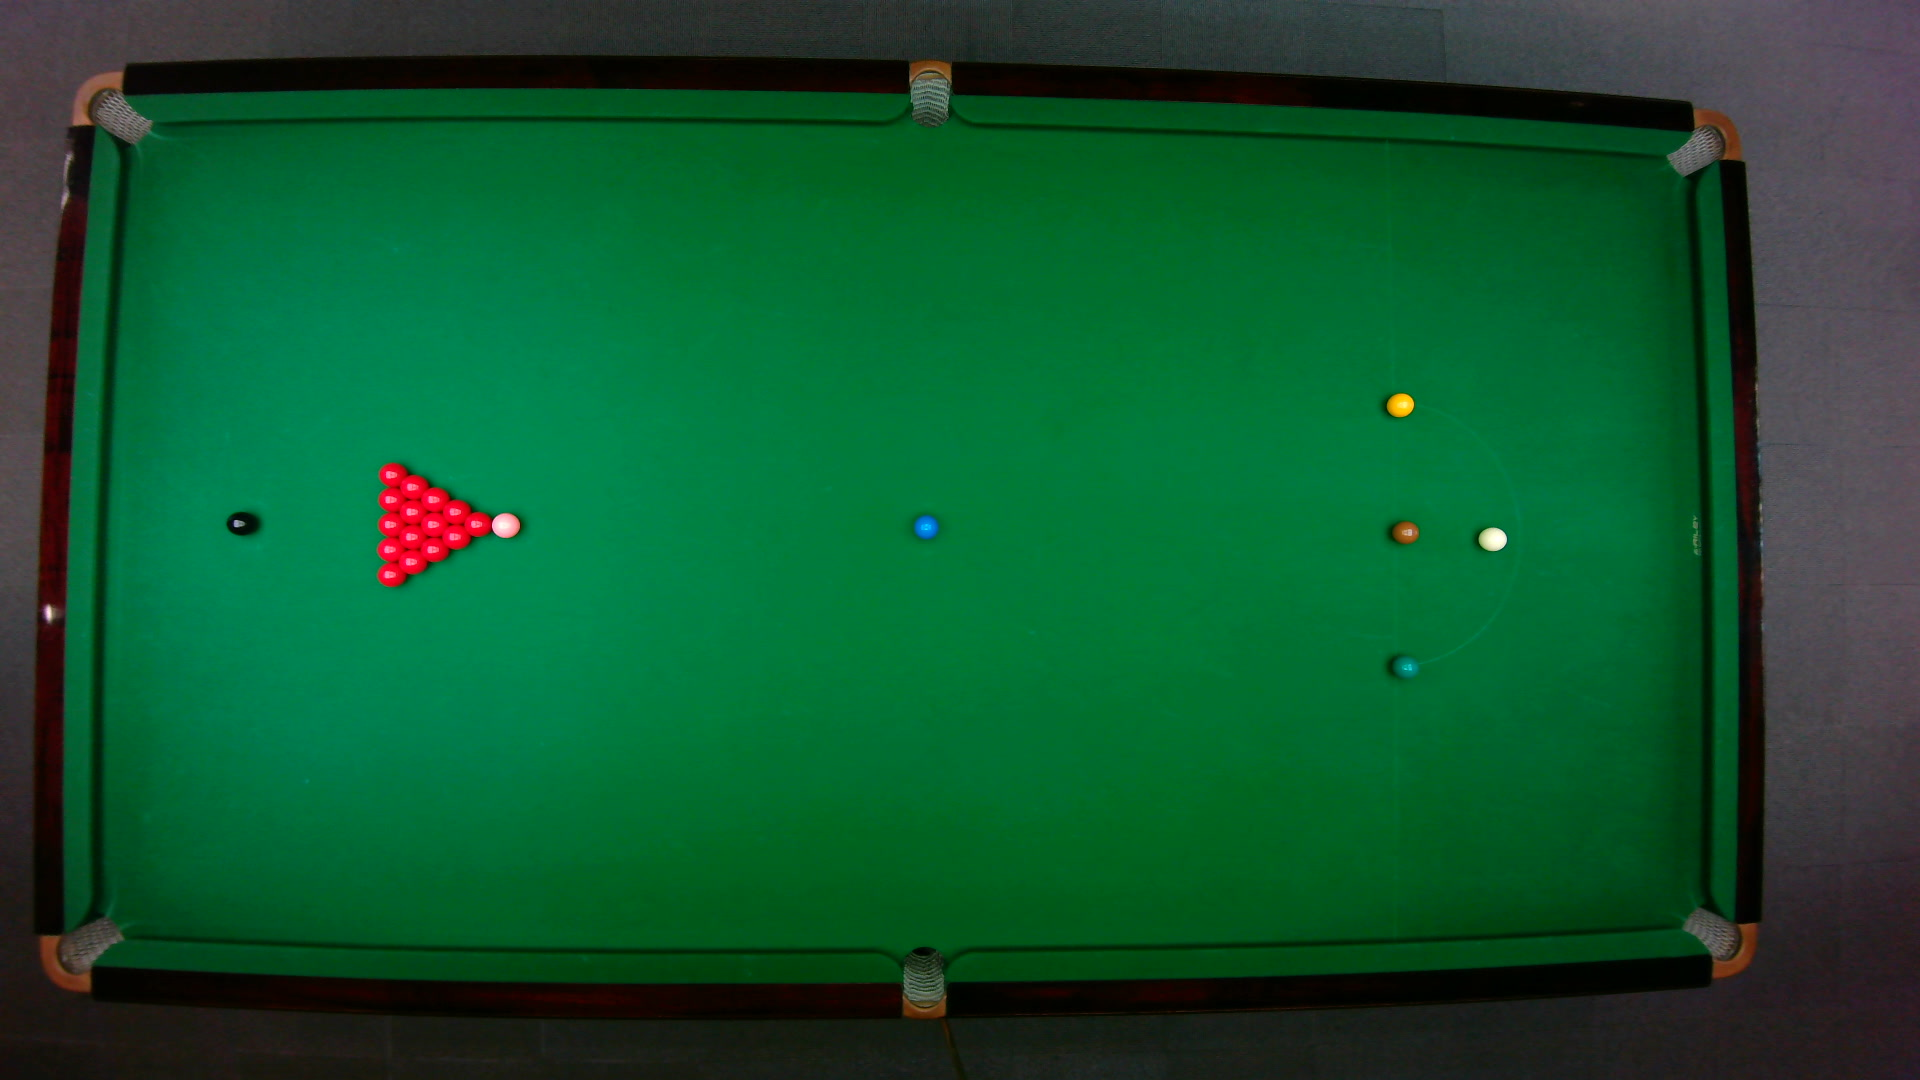bag: (37, 914, 125, 992), (69, 69, 152, 145), (1677, 905, 1756, 978), (1663, 107, 1741, 177), (901, 944, 944, 1019), (909, 57, 949, 128)
black: (224, 509, 257, 535)
blue: (913, 512, 939, 539)
brown: (1390, 520, 1419, 545)
green: (1389, 651, 1419, 679)
pink: (491, 510, 522, 539)
red: (375, 562, 410, 588), (376, 462, 411, 488), (398, 473, 433, 500), (463, 510, 495, 538), (376, 512, 407, 538), (442, 498, 473, 525), (376, 488, 410, 512), (400, 550, 429, 578), (442, 525, 472, 551), (421, 485, 451, 512), (419, 512, 450, 538), (375, 538, 407, 562), (419, 537, 448, 563), (400, 500, 429, 525), (400, 525, 427, 550)
white: (1476, 524, 1507, 553)
yellow: (1385, 390, 1415, 417)
zone: (1389, 400, 1520, 666)
